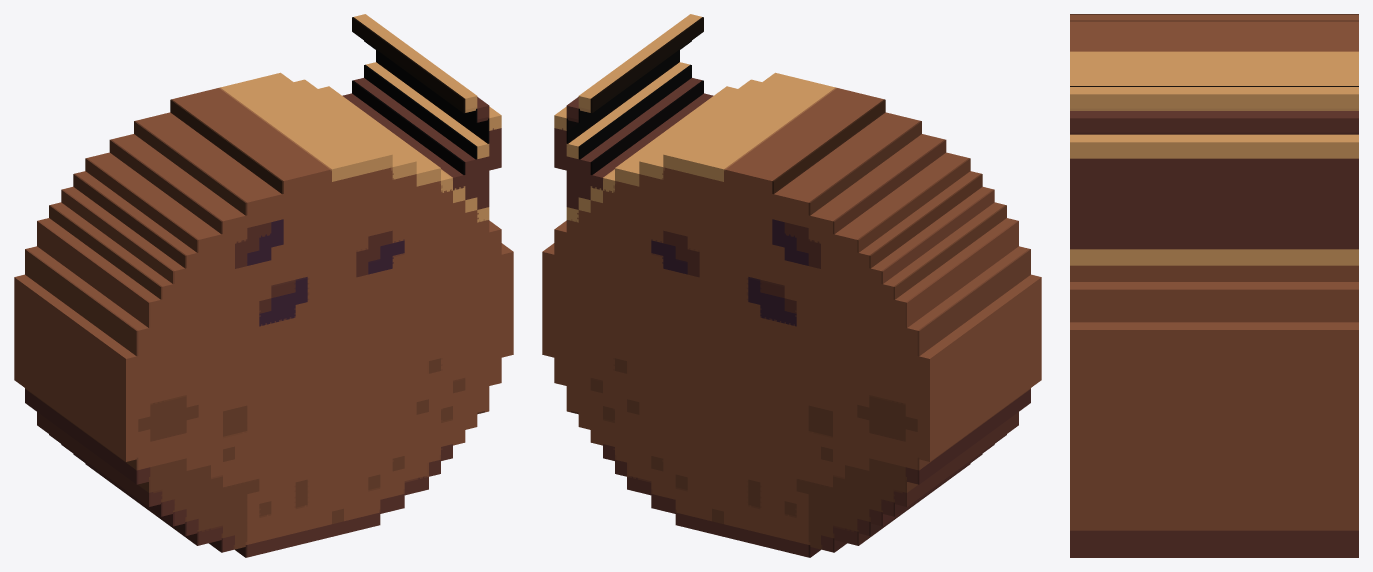
File: Coconut.dae
The picture shows the model from 3 angles, left to right: view 1: azimuth 30°, elevation 25°; view 2: azimuth 150°, elevation 25°; view 3: azimuth 270°, elevation 25°; orthographic projection. The views are drawn at different scales.
Visible parts, largest first — view 1: voxel_0; view 2: voxel_0; view 3: voxel_0.
Part boxes in pixels (x1,y1,x2,y2): voxel_0: [14, 14, 513, 557]; voxel_0: [542, 14, 1041, 557]; voxel_0: [1070, 14, 1358, 557].
Size of the model in its own units: 8 by 4 by 8.
1 material, 1 textured.
